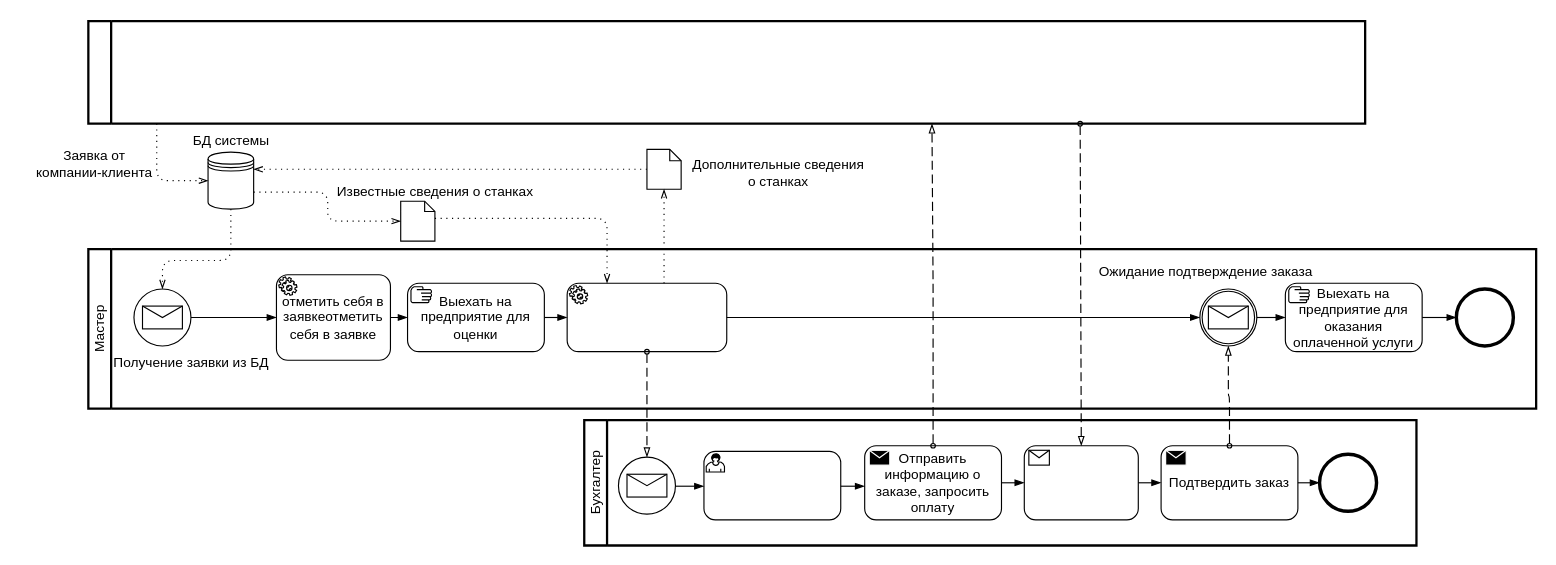
Image size: 1556x565. Some labels were removed from this diagram. Each missing label, with the centre of its shape:
"клиент" belongs at [726,71].
"Оценить заказ, проверить на финансовые ошибки" belongs at [772,485].
"Получить оплату" belongs at [1080,482].
"Составить заказ с указанием всех необходимых услуг и оценкой времени" belongs at [646,317].
